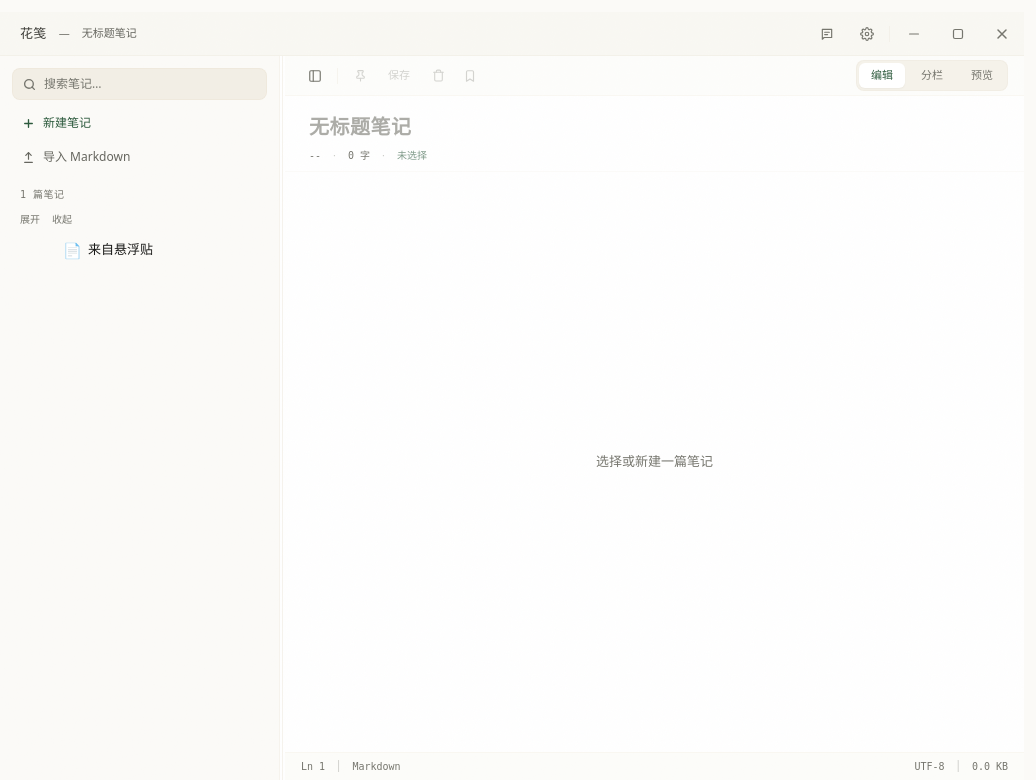
Test: main-window synchronization › adds a note saved in another window to the note list
Click the element showing "📄 来自悬浮贴" at point(132, 250), box [24, 240, 239, 260]
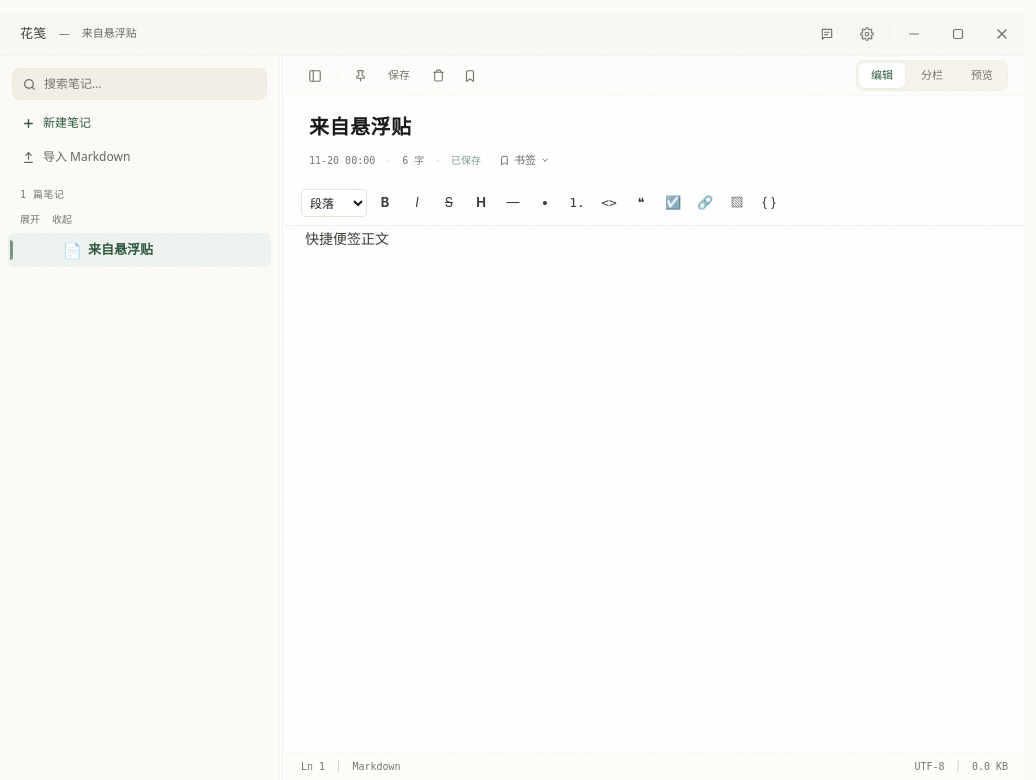
Now the text box holds "快捷便签正文", box [305, 226, 1004, 736]
